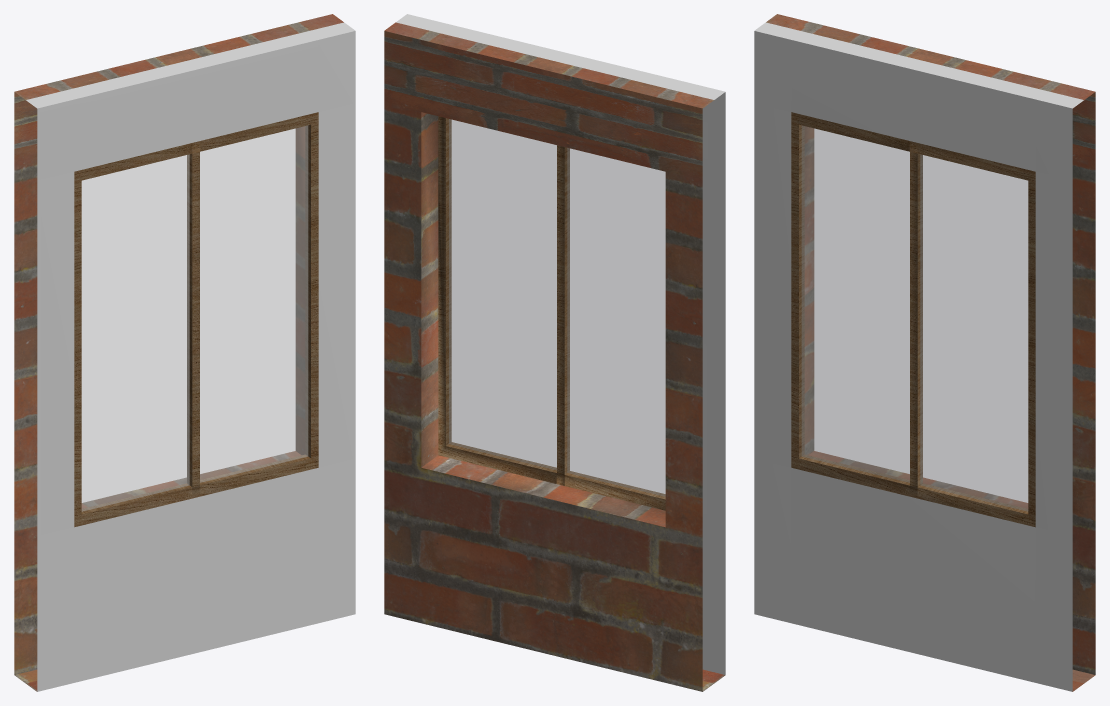
The model's file is Window_wall_semincomplete.fbx.
The picture shows the model from 3 angles, left to right: view 1: azimuth 30°, elevation 25°; view 2: azimuth 150°, elevation 25°; view 3: azimuth 330°, elevation 25°; orthographic projection.
Parts seen in each view (by area): view 1: Window wallsemincomplete, Window; view 2: Window wallsemincomplete, Window; view 3: Window wallsemincomplete, Window.
Boxes of the visible parts, <box> form: Window wallsemincomplete: <box>14,14,355,691</box>; Window: <box>74,112,318,527</box>; Window wallsemincomplete: <box>384,14,725,691</box>; Window: <box>438,116,665,510</box>; Window wallsemincomplete: <box>754,14,1095,691</box>; Window: <box>791,112,1035,527</box>.
Size of the model in its own units: 400 by 700 by 50.
